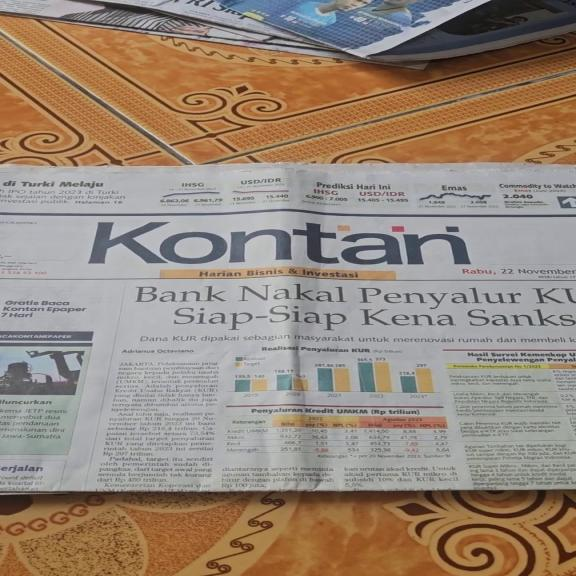Kertas: (2, 166, 568, 481)
